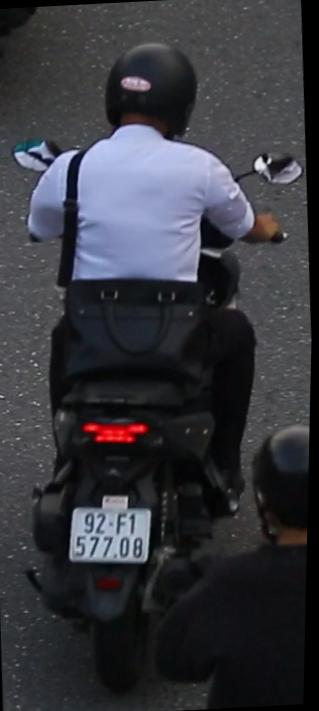LP: (65, 496, 158, 568)
helmet: (93, 34, 207, 154)
